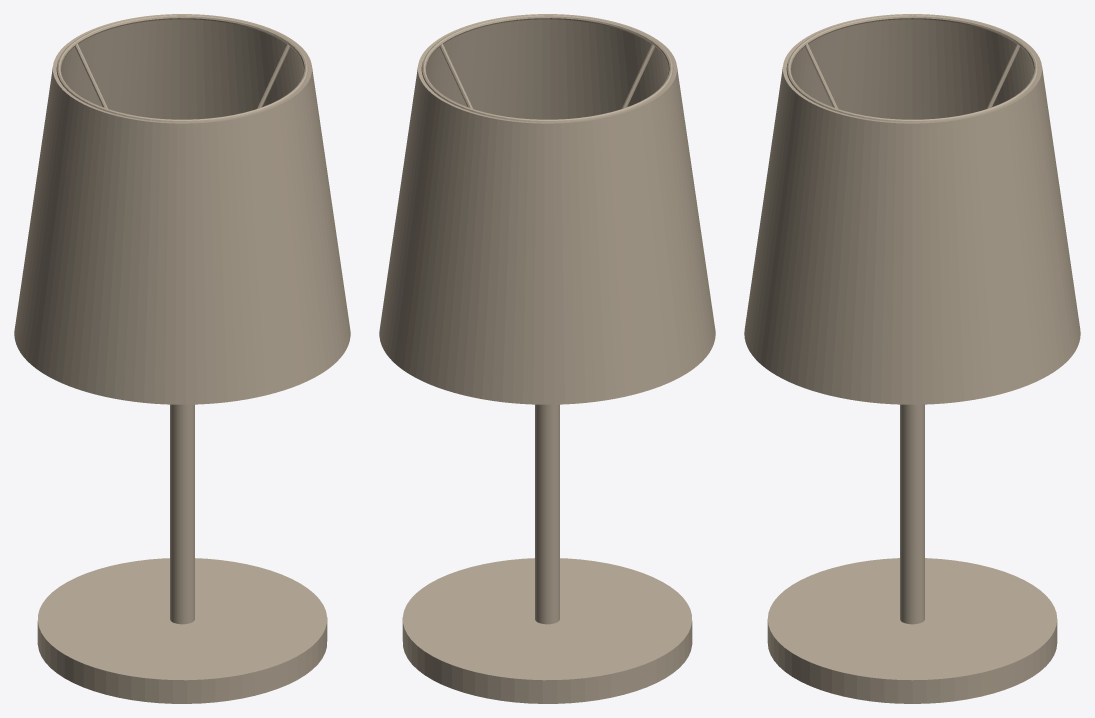
File: 3dcodebench_DeskLamp_seed0.glb
3 renders of one model, left to right at view 1: azimuth 30°, elevation 25°; view 2: azimuth 150°, elevation 25°; view 3: azimuth 270°, elevation 25°, orthographic.
Visible parts, largest first — view 1: object; view 2: object; view 3: object.
Boxes of the visible parts, box(x1,y1,x2,y2) form: object: box(14, 14, 350, 703); object: box(379, 14, 715, 703); object: box(744, 14, 1080, 703).
Bounding box in the file's own units: 0.2823 × 0.5329 × 0.2823.
